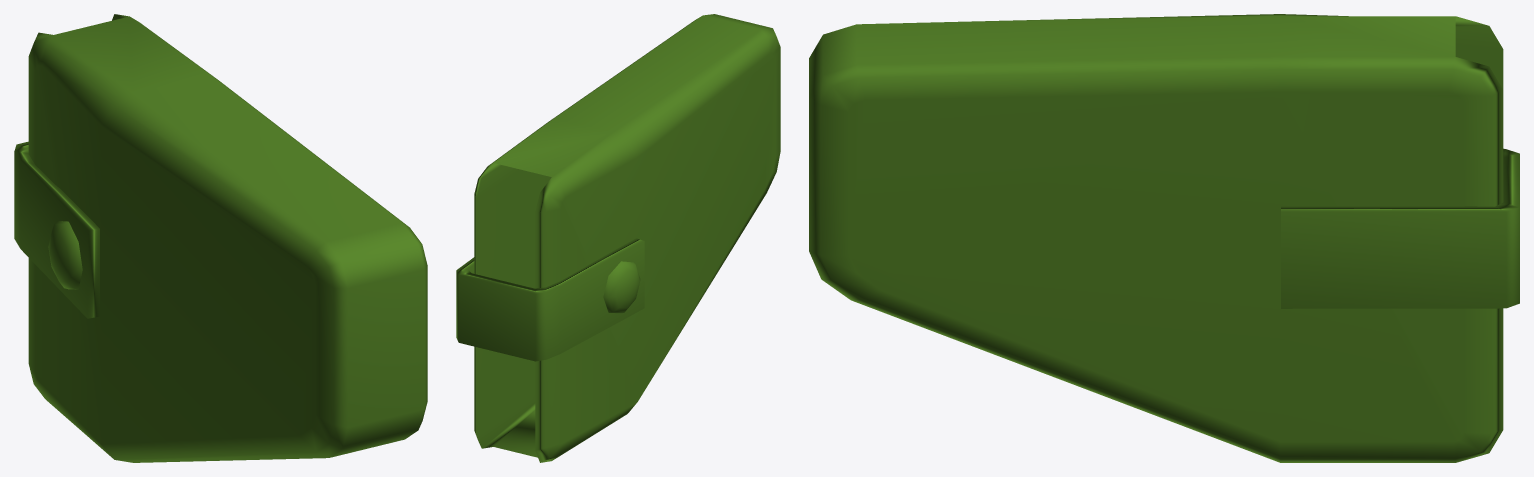
The model's file is Holster.fbx.
The picture shows the model from 3 angles, left to right: view 1: azimuth 30°, elevation 25°; view 2: azimuth 150°, elevation 25°; view 3: azimuth 270°, elevation 25°; orthographic projection. The views are drawn at different scales.
Visible parts, largest first — view 1: Holster; view 2: Holster; view 3: Holster.
Boxes of the visible parts, left/top/right/bottom form: Holster: left=14, top=14, right=427, bottom=462; Holster: left=456, top=14, right=780, bottom=462; Holster: left=809, top=14, right=1519, bottom=462.
Size of the model in its own units: 0.0697 by 0.1608 by 0.255.
Materials: 1 (1 with a texture image).
